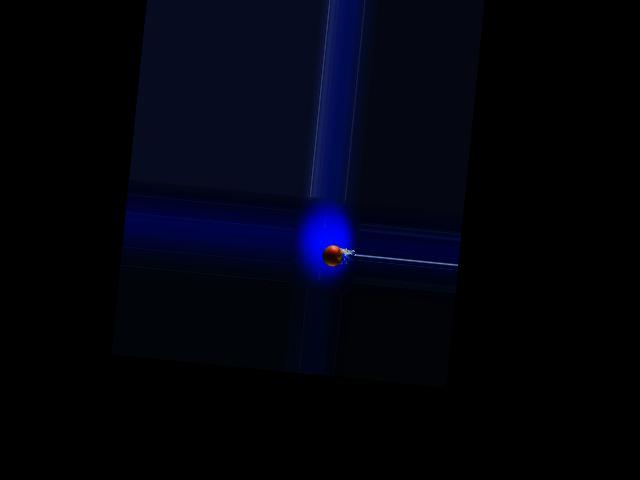tomato: (321, 244, 343, 268)
